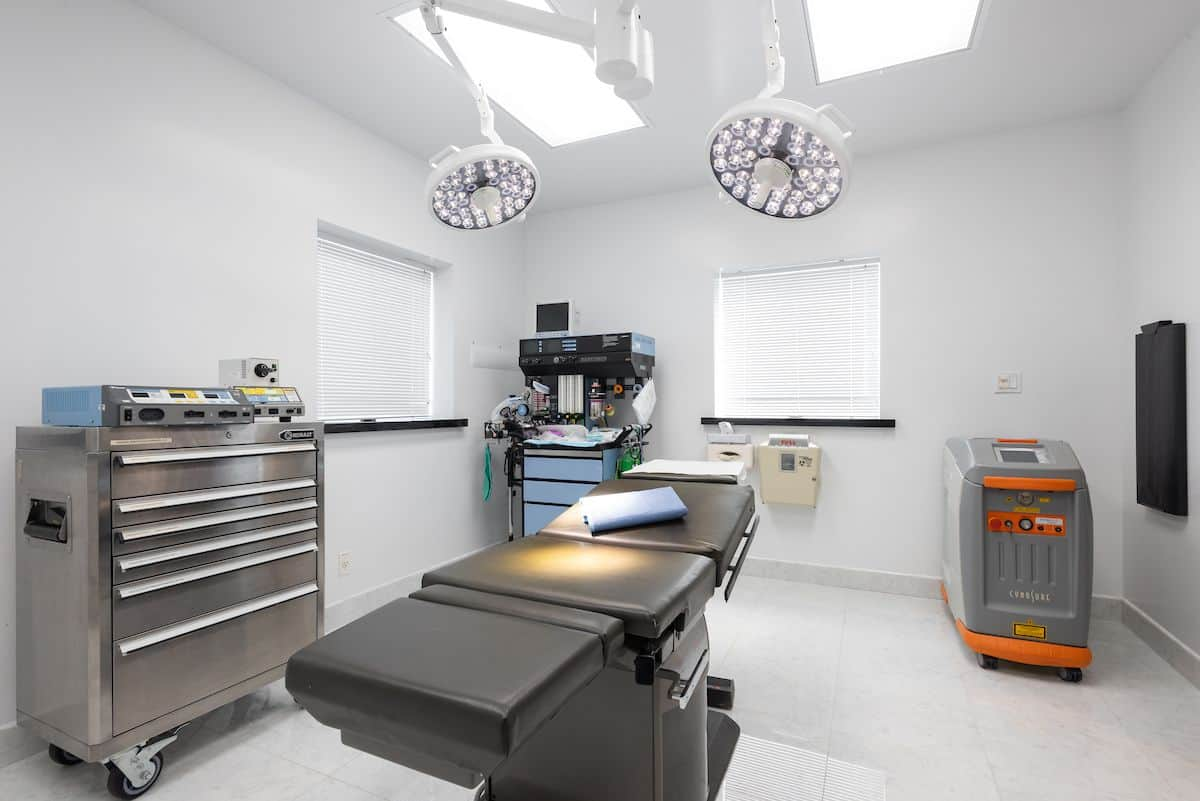bedside_monitor: (531, 296, 573, 333)
dispenser: (699, 418, 752, 477)
electrosurgical_unit: (39, 379, 258, 432), (224, 381, 307, 418)
handle: (121, 541, 320, 599), (116, 593, 315, 651), (124, 499, 321, 539), (117, 478, 317, 510), (118, 445, 316, 463)
medical_drawer: (18, 420, 327, 801), (519, 431, 614, 535)
medical_waste_container: (756, 435, 823, 510)
operating_bed: (283, 482, 762, 801)
surgical_light: (702, 88, 861, 222), (423, 141, 543, 234)
